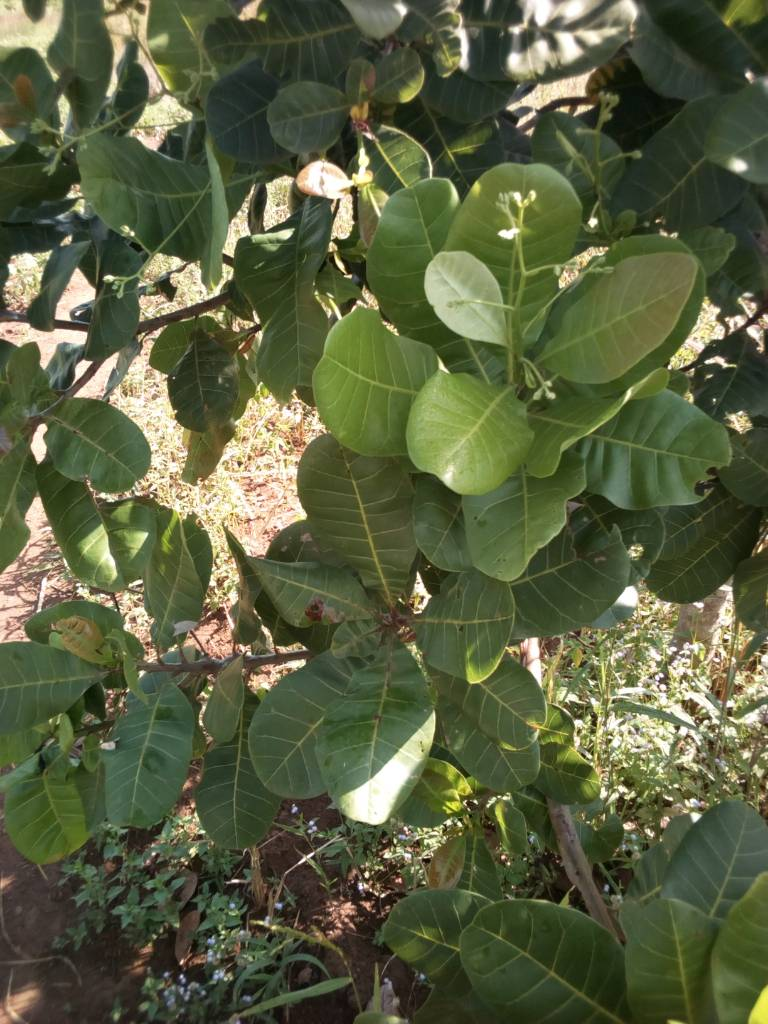Anoplonemis curvipes: (680, 433, 732, 507)
